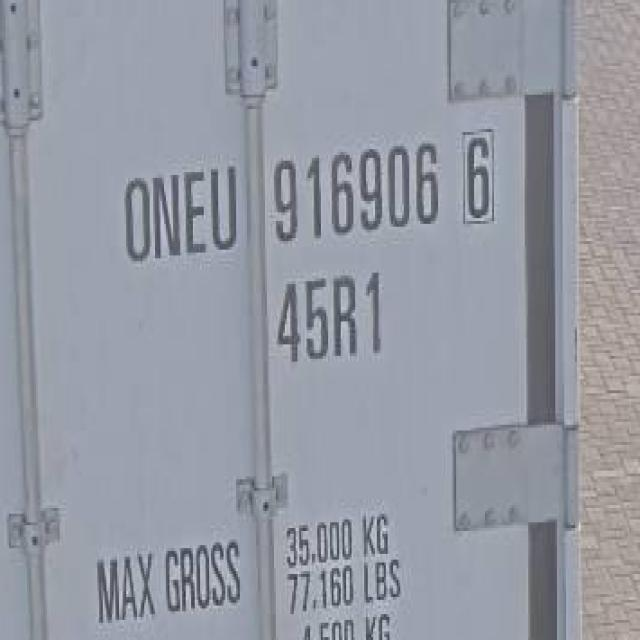dv: (455, 120, 496, 232)
owner: (116, 161, 244, 271)
serial: (268, 132, 444, 248)
size: (272, 263, 387, 366)
